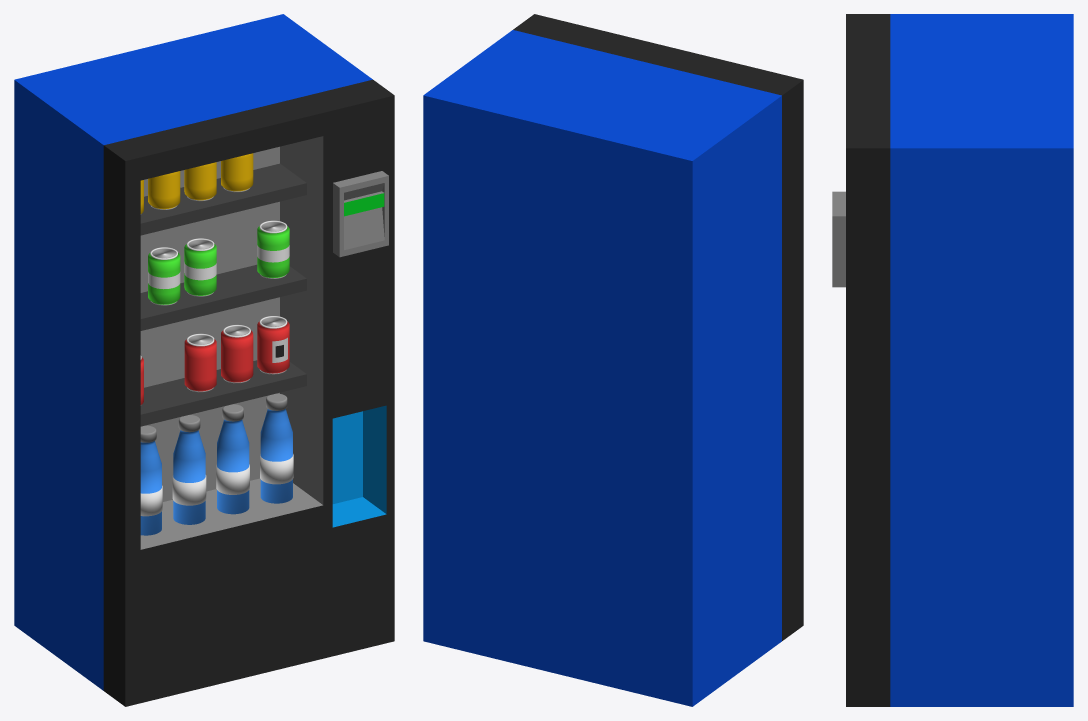
File: Vending_Machine_1.fbx
3 renders of one model, left to right at view 1: azimuth 30°, elevation 25°; view 2: azimuth 150°, elevation 25°; view 3: azimuth 270°, elevation 25°, orthographic. The views are drawn at different scales.
Visible parts, largest first — view 1: Vending Machine; view 2: Vending Machine; view 3: Vending Machine.
Boxes of the visible parts, x1,y1,x2,y2 form: Vending Machine: (14,14,394,706); Vending Machine: (423,14,803,706); Vending Machine: (832,14,1073,706).
Bounding box in the file's own units: 191 × 369 × 145.
